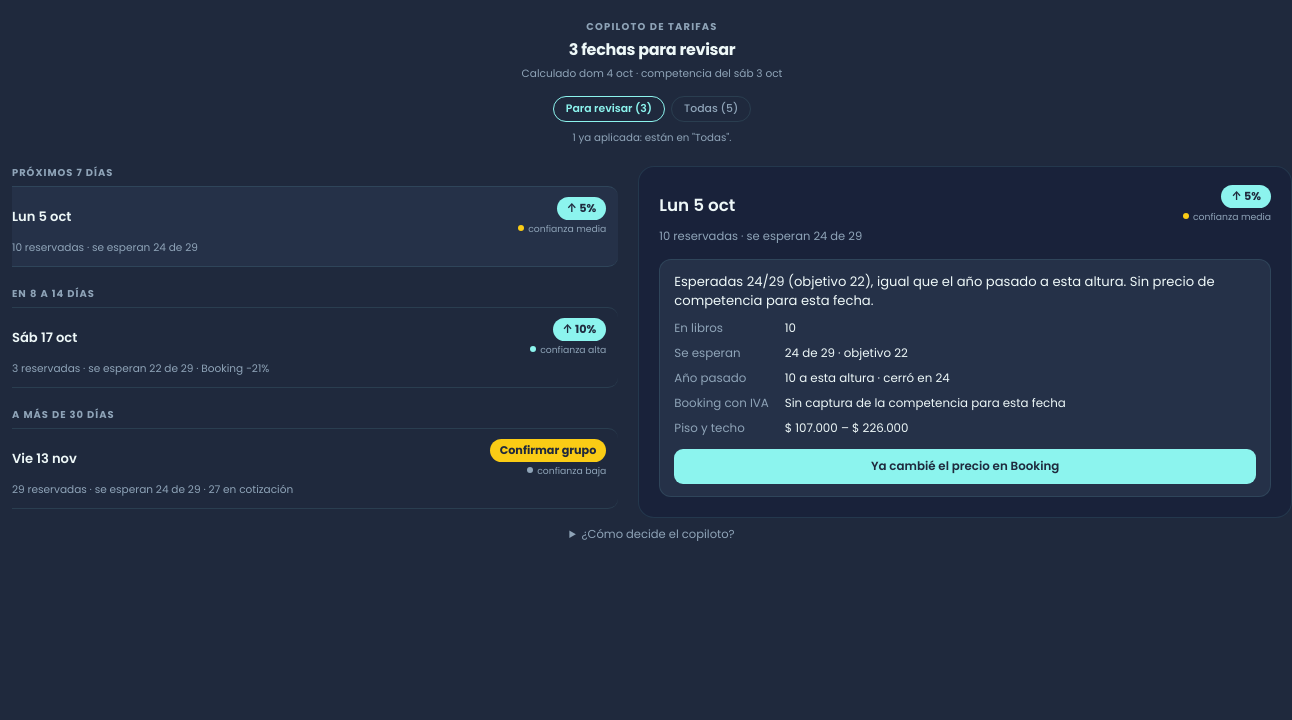
Test: lista lo que hay que revisar por tramos, con la acción y la confianza
The width and height of the screenshot is (1292, 720).
Expected: the heading "3 fechas para revisar" is shown, [569,38,735,61]
Expected: the text "Calculado dom 4 oct · competencia del sáb 3 oct" is shown, [522,66,782,81]
Click the button "Todas (5)".
click(711, 109)  # box [671,96,751,122]
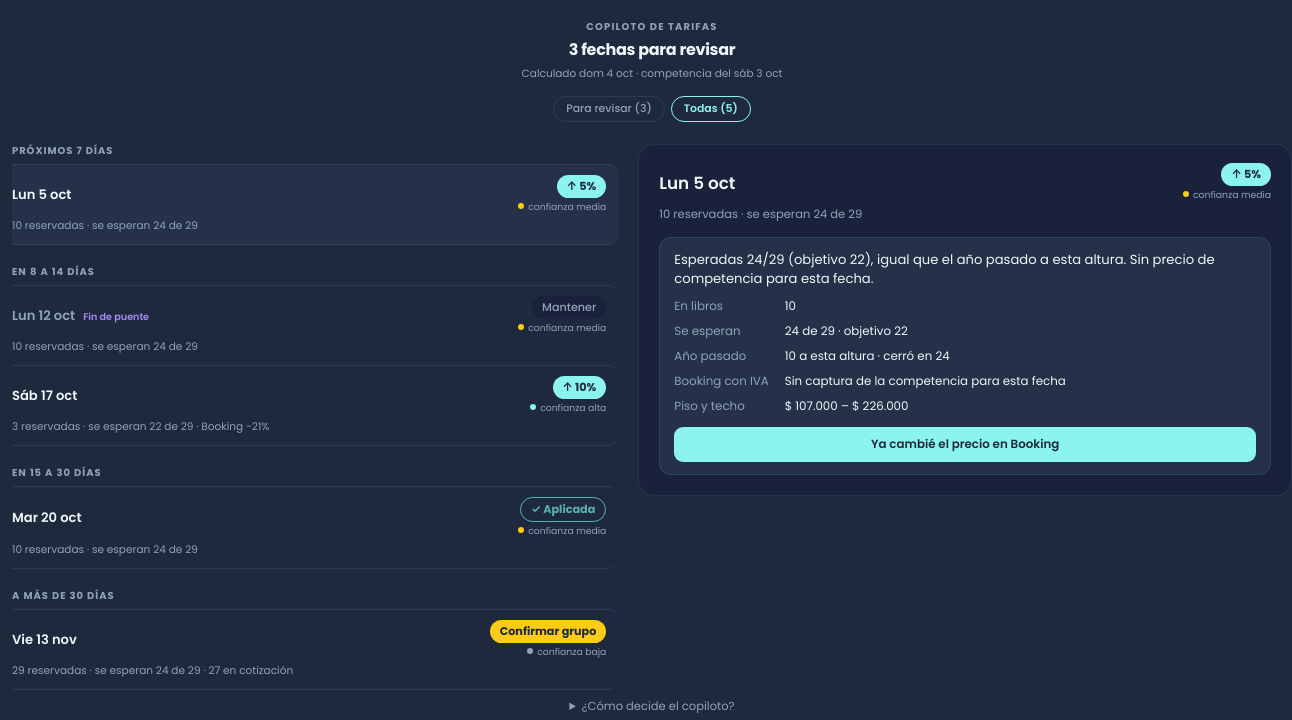
Expected: the text "Mantener" is shown, [532,296,606,319]
Expected: the text "Fin de puente" is shown, [83,310,149,324]
Expected: the text "✓ Aplicada" is shown, [520,497,606,522]
